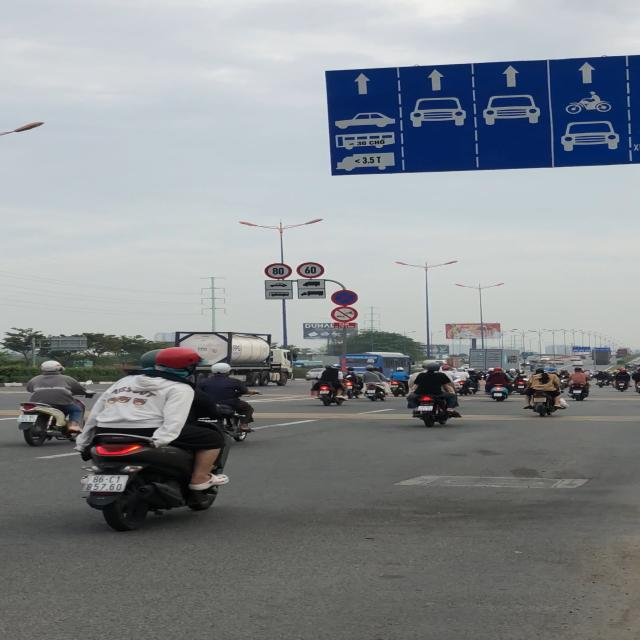Bien bao cam dung xe va do xe: (330, 288, 361, 306)
Bien bao toc do toi da cho phep: (296, 262, 326, 279), (264, 263, 292, 279)
